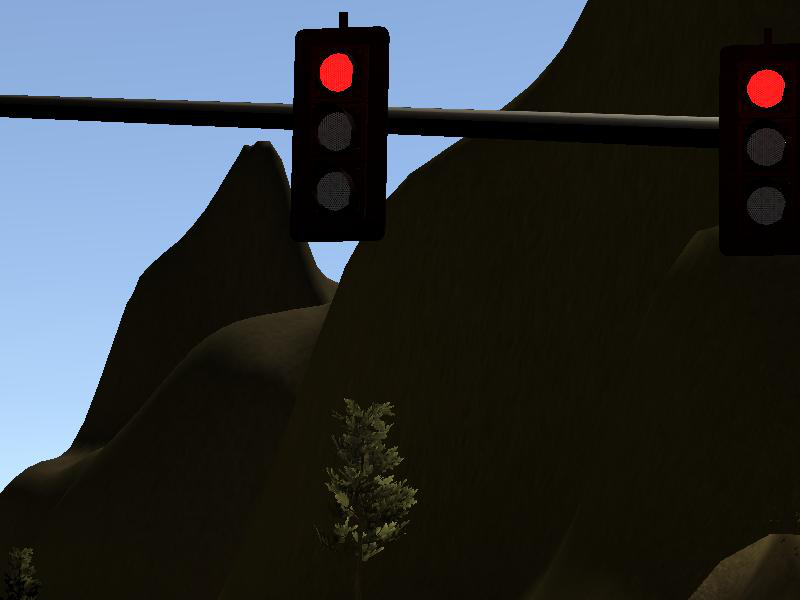red: (295, 30, 388, 242), (720, 43, 800, 256)
